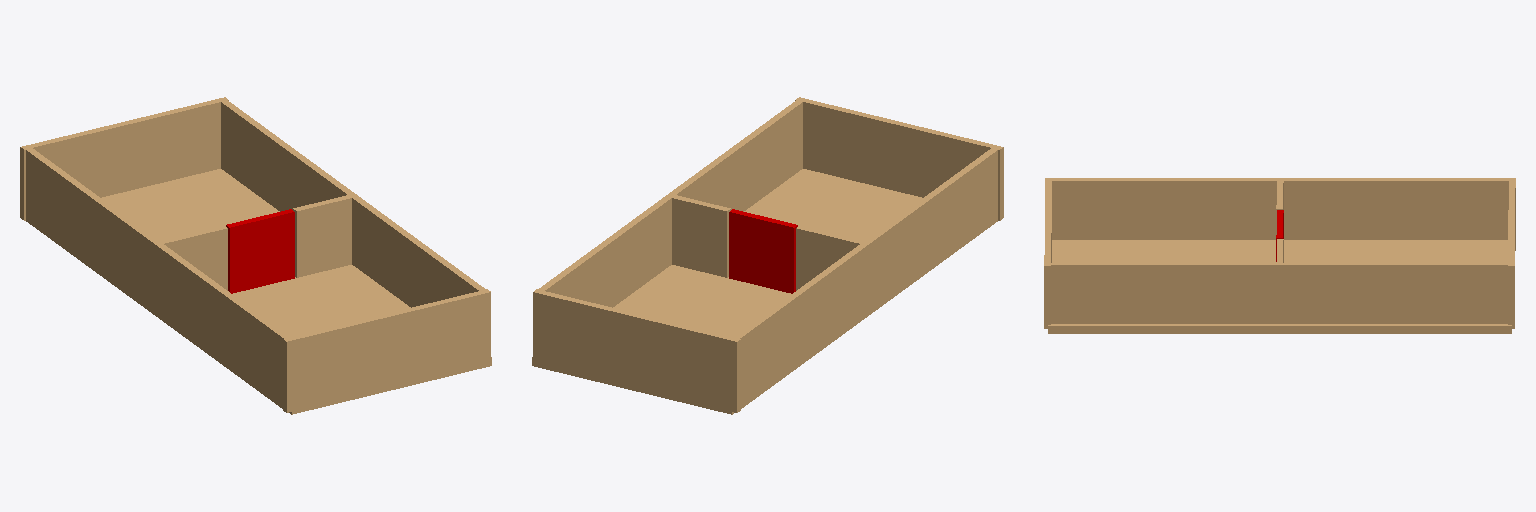
URDF robot description (walls):
<?xml version="1.0" ?>
<robot name="walls">
  <link name="left_wall">
      <contact>
          <lateral_friction value="1"/>
      </contact>
        <inertial>
          <origin rpy="0 0 0" xyz="0 0 0"/>
           <mass value="0"/>
           <inertia ixx="0" ixy="0" ixz="0" iyy="0" iyz="0" izz="0"/>
        </inertial>
        <visual>
          <origin rpy="0 0 0" xyz="0.0 4.5 0.75"/>
          <geometry>
            <box size="0.15 10 1.5"/>
          </geometry>
          <material name="brown">
            <color rgba="0.87 0.72 0.52 1"/>
          </material>
        </visual>
        <collision>
          <origin rpy="0 0 0" xyz="0.0 4.5 0.75"/>
          <geometry>
            <box size="0.15 10 1.5"/>
          </geometry>
        </collision>
  </link>
  <link name="floor">
      <contact>
          <lateral_friction value="1"/>
      </contact>
        <inertial>
          <origin rpy="0 0 0" xyz="0 0 0"/>
           <mass value="0"/>
           <inertia ixx="0" ixy="0" ixz="0" iyy="0" iyz="0" izz="0"/>
        </inertial>
        <visual>
          <origin rpy="0 0 0" xyz="2.25 4.5 0"/>
          <geometry>
            <box size="4.4 10 0.2"/>
          </geometry>
          <material name="brown">
            <color rgba="0.87 0.72 0.52 1"/>
          </material>
        </visual>
        <collision>
          <origin rpy="0 0 0" xyz="2.25 4.5 0"/>
          <geometry>
            <box size="4.4 10 0.2"/>
          </geometry>
        </collision>
  </link>
  <link name="bottom_wall">
      <contact>
          <lateral_friction value="1"/>
      </contact>
        <inertial>
          <origin rpy="0 0 0" xyz="0 0 0"/>
           <mass value="0"/>
           <inertia ixx="0" ixy="0" ixz="0" iyy="0" iyz="0" izz="0"/>
        </inertial>
        <visual>
          <origin rpy="0 0 1.57" xyz="2.15 -0.5 0.75"/>
          <geometry>
            <box size="0.15 4.5 1.5"/>
          </geometry>
          <material name="brown">
            <color rgba="0.87 0.72 0.52 1"/>
          </material>
        </visual>
        <collision>
          <origin rpy="0 0 1.57" xyz="2.15 -0.5 0.75"/>
          <geometry>
            <box size="0.15 4.5 1.5"/>
          </geometry>
        </collision>
  </link>
  <link name="right_wall">
      <contact>
          <lateral_friction value="1"/>
      </contact>
        <inertial>
          <origin rpy="0 0 0" xyz="0 0 0"/>
           <mass value="0"/>
           <inertia ixx="0" ixy="0" ixz="0" iyy="0" iyz="0" izz="0"/>
        </inertial>
        <visual>
          <origin rpy="0 0 0" xyz="4.3 4.5 0.75"/>
          <geometry>
            <box size="0.15 10 1.5"/>
          </geometry>
          <material name="brown">
            <color rgba="0.87 0.72 0.52 1"/>
          </material>
        </visual>
        <collision>
          <origin rpy="0 0 0" xyz="4.3 4.5 0.75"/>
          <geometry>
            <box size="0.15 10 1.5"/>
          </geometry>
        </collision>
  </link>

  <link name="wall_between_kitchen_and_living_room_1">
      <contact>
          <lateral_friction value="1"/>
      </contact>
        <inertial>
          <origin rpy="0 0 0" xyz="0 0 0"/>
           <mass value="0"/>
           <inertia ixx="0" ixy="0" ixz="0" iyy="0" iyz="0" izz="0"/>
        </inertial>
        <visual>
          <origin rpy="0 0 1.57" xyz="0.75 4.5 0.75"/>
          <geometry>
            <box size="0.15 1.5 1.5"/>
          </geometry>
          <material name="brown">
            <color rgba="0.87 0.72 0.52 1"/>
          </material>
        </visual>
        <collision>
          <origin rpy="0 0 1.57" xyz="0.75 4.5 0.75"/>
          <geometry>
            <box size="0.15 1.5 1.5"/>
          </geometry>
        </collision>
  </link>
  <link name="wall_between_kitchen_and_living_room_2">
      <contact>
          <lateral_friction value="1"/>
      </contact>
        <inertial>
          <origin rpy="0 0 0" xyz="0 0 0"/>
           <mass value="0"/>
           <inertia ixx="0" ixy="0" ixz="0" iyy="0" iyz="0" izz="0"/>
        </inertial>
        <visual>
          <origin rpy="0 0 1.57" xyz="3.65 4.5 0.75"/>
          <geometry>
            <box size="0.15 1.28 1.5"/>
          </geometry>
          <material name="brown">
            <color rgba="0.87 0.72 0.52 1"/>
          </material>
        </visual>
        <collision>
          <origin rpy="0 0 1.57" xyz="3.65 4.5 0.75"/>
          <geometry>
            <box size="0.15 1.28 1.5"/>
          </geometry>
        </collision>
  </link>
  <link name="door_between_kitchen_and_living_room">
      <contact>
          <lateral_friction value="1"/>
      </contact>
        <inertial>
          <origin rpy="0 0 0" xyz="0 0 0"/>
           <mass value="1"/>
           <inertia ixx="0" ixy="0" ixz="0" iyy="0" iyz="0" izz="0"/>
        </inertial>
        <visual>
          <!--<origin rpy="0 0 1.57" xyz="2.25 4.5 0.75"/>-->
          <origin rpy="0 0 1.57" xyz="0.75 0 0"/>
          <geometry>
            <box size="0.15 1.433 1.5"/>
          </geometry>
          <material name="red">
            <color rgba="0.87 0 0 1"/>
          </material>
        </visual>
        <collision>
          <origin rpy="0 0 1.57" xyz="0.75 0 0"/>
          <geometry>
            <box size="0.15 1.433 1.5"/>
          </geometry>
        </collision>
  </link>
  <link name="top_wall">
      <contact>
          <lateral_friction value="1"/>
      </contact>
        <inertial>
          <origin rpy="0 0 0" xyz="0 0 0"/>
           <mass value="0"/>
           <inertia ixx="0" ixy="0" ixz="0" iyy="0" iyz="0" izz="0"/>
        </inertial>
        <visual>
          <origin rpy="0 0 1.57" xyz="2.15 9.5 0.75"/>
          <geometry>
            <box size="0.15 4.5 1.5"/>
          </geometry>
          <material name="brown">
            <color rgba="0.87 0.72 0.52 1"/>
          </material>
        </visual>
        <collision>
          <origin rpy="0 0 1.57" xyz="2.15 9.5 0.75"/>
          <geometry>
            <box size="0.15 4.5 1.5"/>
          </geometry>
        </collision>
  </link>



  <joint name="left_to_bottom" type="fixed">
    <parent link="left_wall"/>
    <child link="bottom_wall"/>
  </joint>
  <joint name="bottom_to_right" type="fixed">
    <parent link="bottom_wall"/>
    <child link="right_wall"/>
  </joint>
  <joint name="right_to_top" type="fixed">
    <parent link="right_wall"/>
    <child link="top_wall"/>
  </joint>
  <joint name="wall_between_kitchen_and_living_room_1_to_left" type="fixed">
    <parent link="left_wall"/>
    <child link="wall_between_kitchen_and_living_room_1"/>
  </joint>
  <joint name="wall_between_kitchen_and_living_room_2_to_left" type="fixed">
    <parent link="right_wall"/>
    <child link="wall_between_kitchen_and_living_room_2"/>
  </joint>
  <joint name="door_to_wall_joint" type="revolute">
    <parent link="wall_between_kitchen_and_living_room_1"/>
    <child link="door_between_kitchen_and_living_room"/>

    <origin xyz="1.5 4.5 0.75"/>
    <!-- 2.25 for x? 2.25 4.5 0.75-->
    <axis xyz="0 0 1"></axis>
    <limit effort="30" velocity="1.0" lower="-2.79253" upper="2.79253" />
  </joint>
  <joint name="left_to_floor" type="fixed">
    <parent link="floor"/>
    <child link="left_wall"/>
  </joint>

</robot>

--- Render facts (derived) ---
Views: 3 orthographic renders of the robot side by side, from view 1: azimuth 30°, elevation 25°; view 2: azimuth 150°, elevation 25°; view 3: azimuth 270°, elevation 25°.
Model walls with 8 links and 7 joints (1 revolute, 6 fixed), rooted at floor, posed every joint at zero.
Links seen in each view (by area): view 1: left_wall, bottom_wall, floor, right_wall, top_wall, door_between_kitchen_and_living_room, wall_between_kitchen_and_living_room_2, wall_between_kitchen_and_living_room_1; view 2: left_wall, top_wall, floor, right_wall, bottom_wall, door_between_kitchen_and_living_room, wall_between_kitchen_and_living_room_2, wall_between_kitchen_and_living_room_1; view 3: right_wall, left_wall, floor, top_wall, bottom_wall.
Link boxes in pixels (x1=…): left_wall: x1=26, y1=147, x2=291, y2=408; bottom_wall: x1=283, y1=289, x2=490, y2=412; floor: x1=101, y1=169, x2=491, y2=414; right_wall: x1=221, y1=99, x2=487, y2=307; top_wall: x1=20, y1=97, x2=228, y2=220; door_between_kitchen_and_living_room: x1=226, y1=209, x2=294, y2=293; wall_between_kitchen_and_living_room_2: x1=293, y1=195, x2=353, y2=277; wall_between_kitchen_and_living_room_1: x1=157, y1=225, x2=227, y2=290; left_wall: x1=731, y1=147, x2=997, y2=408; top_wall: x1=533, y1=289, x2=740, y2=412; floor: x1=532, y1=169, x2=922, y2=414; right_wall: x1=536, y1=99, x2=804, y2=307; bottom_wall: x1=795, y1=97, x2=1003, y2=220; door_between_kitchen_and_living_room: x1=729, y1=209, x2=797, y2=293; wall_between_kitchen_and_living_room_2: x1=672, y1=195, x2=730, y2=277; wall_between_kitchen_and_living_room_1: x1=796, y1=225, x2=866, y2=290; right_wall: x1=1048, y1=263, x2=1511, y2=323; left_wall: x1=1048, y1=178, x2=1511, y2=239; floor: x1=1048, y1=240, x2=1511, y2=333; top_wall: x1=1508, y1=178, x2=1515, y2=328; bottom_wall: x1=1044, y1=178, x2=1051, y2=328.
Size in the robot's own frame: 4.55 by 10.15 by 1.6 metres.
Geometry: primitives only (box / cylinder / sphere), no mesh files.